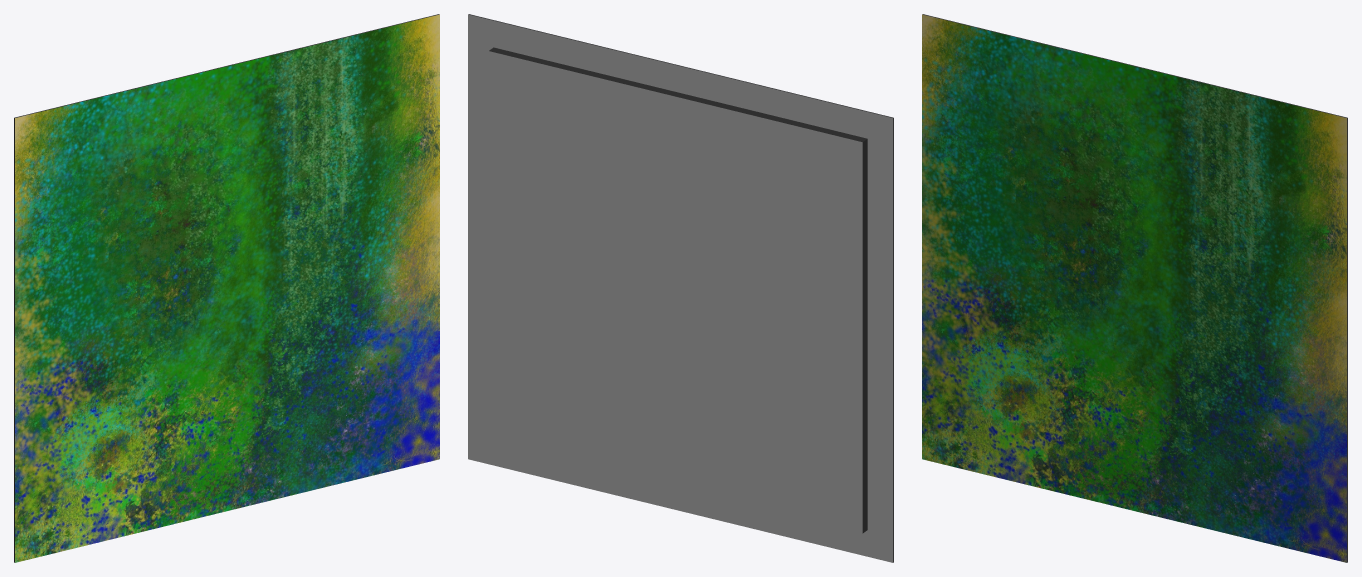
Rendered from va241_grand_dibond.glb.
3 renders of one model, left to right at view 1: azimuth 30°, elevation 25°; view 2: azimuth 150°, elevation 25°; view 3: azimuth 330°, elevation 25°, orthographic.
Parts seen in each view (by area): view 1: va241_grand_dibond; view 2: va241_grand_dibond; view 3: va241_grand_dibond.
Part boxes in pixels (left/top/right/bottom): va241_grand_dibond: left=14, top=14, right=439, bottom=562; va241_grand_dibond: left=468, top=14, right=893, bottom=562; va241_grand_dibond: left=922, top=14, right=1347, bottom=562.
Bounding box in the file's own units: 1 × 1 × 0.023.
4 materials, 1 textured.
